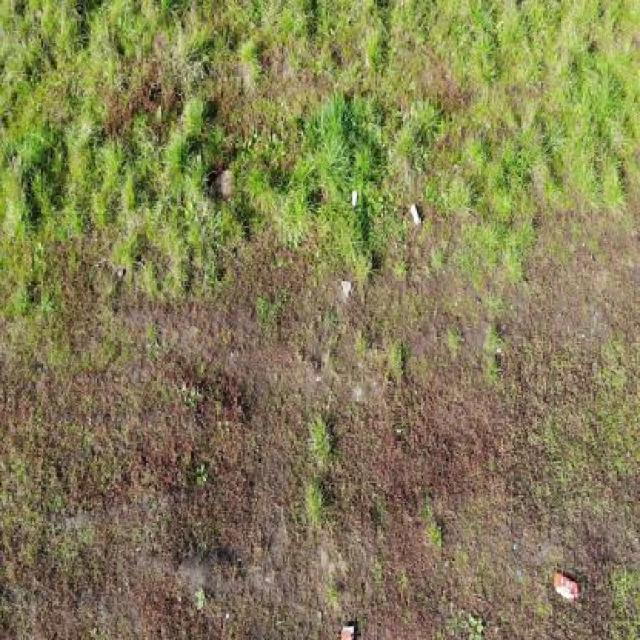Garbage: (552, 569, 581, 604), (410, 201, 420, 228), (340, 623, 355, 639), (351, 191, 358, 210)
